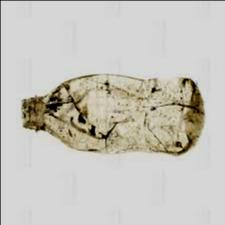Plastic: (15, 69, 209, 158)
